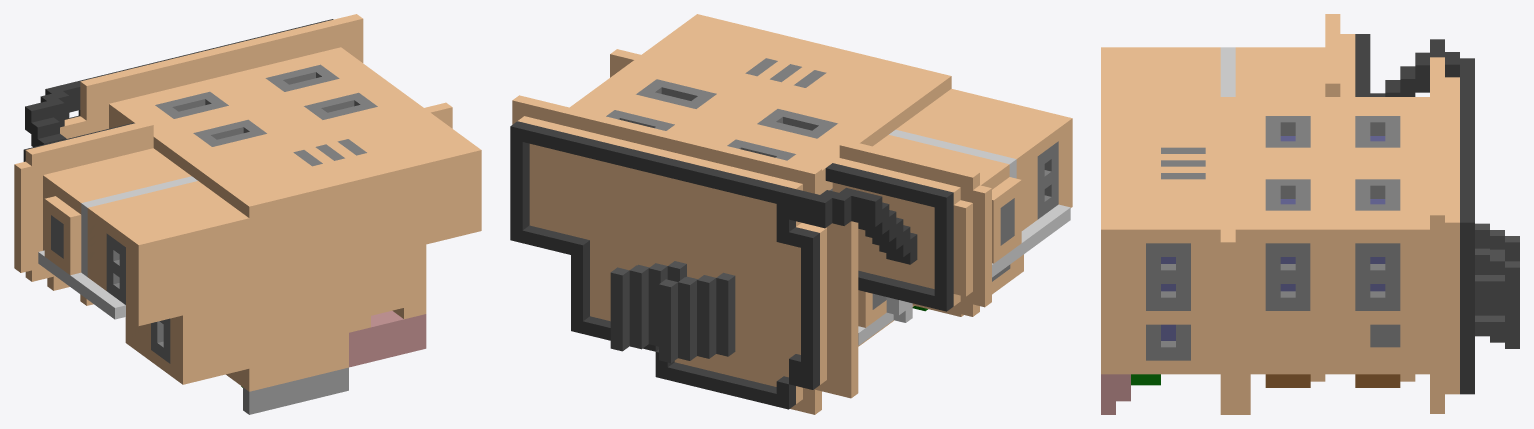
The model's file is yoshida24.fbx.
The picture shows the model from 3 angles, left to right: view 1: azimuth 30°, elevation 25°; view 2: azimuth 150°, elevation 25°; view 3: azimuth 270°, elevation 25°; orthographic projection. The views are drawn at different scales.
Parts seen in each view (by area): view 1: Default; view 2: Default; view 3: Default.
Part boxes in pixels (left/top/right/bottom): Default: left=14, top=14, right=481, bottom=414; Default: left=510, top=14, right=1072, bottom=414; Default: left=1101, top=14, right=1519, bottom=414.
Size of the model in its own units: 35 by 20 by 28.
1 material, 1 textured.
